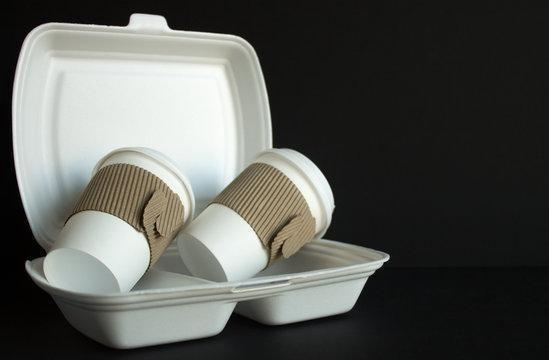cup-disposable: (42, 143, 195, 296), (179, 144, 336, 286)
